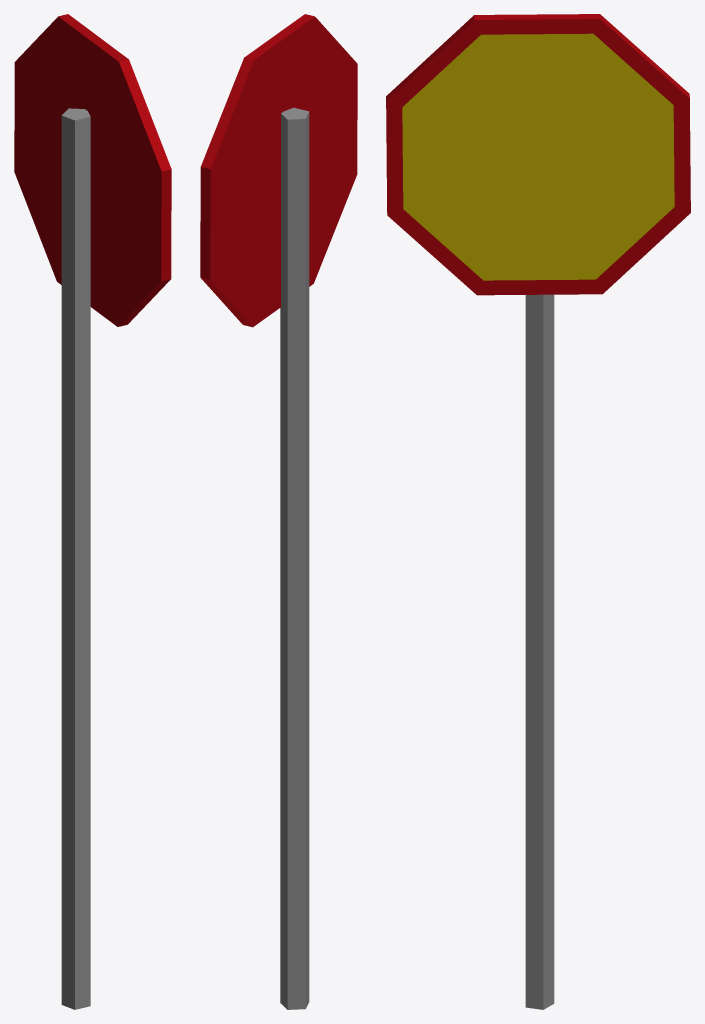
Rendered from VägShylt.fbx.
The picture shows the model from 3 angles, left to right: view 1: azimuth 30°, elevation 25°; view 2: azimuth 150°, elevation 25°; view 3: azimuth 270°, elevation 25°; orthographic projection. The views are drawn at different scales.
Visible parts, largest first — view 1: Cylinder.001, Cylinder; view 2: Cylinder.001, Cylinder; view 3: Cylinder.001, Cylinder.
Part boxes in pixels (x1,y1,x2,y2): Cylinder.001: [14, 14, 171, 326]; Cylinder: [61, 108, 90, 1009]; Cylinder.001: [200, 14, 357, 327]; Cylinder: [280, 107, 309, 1009]; Cylinder.001: [386, 14, 690, 295]; Cylinder: [525, 294, 554, 1009].
Bounding box in the file's own units: 10.21 × 275 × 76.43.
